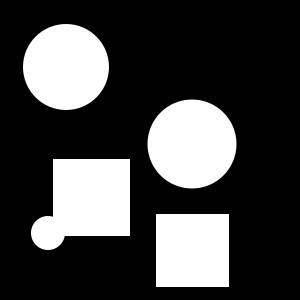circle: (53, 159, 130, 236), (156, 214, 229, 287)
rectangle: (148, 100, 236, 188), (23, 24, 109, 110), (31, 216, 65, 250)
